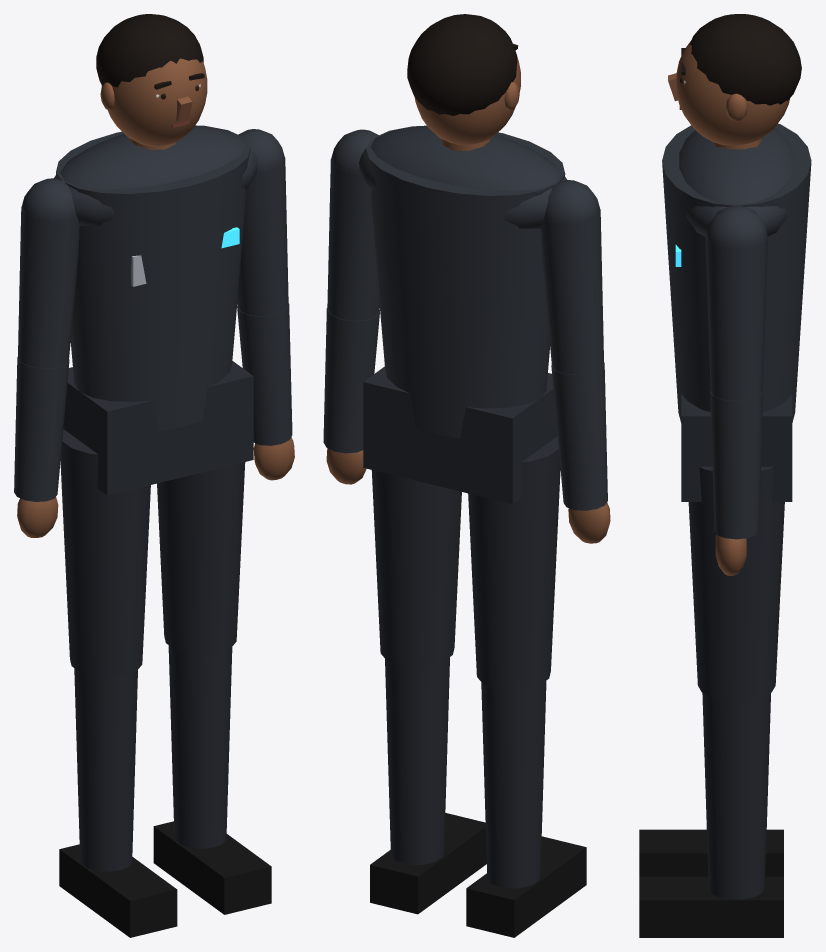
The model's file is char_crowd_1.glb.
3 renders of one model, left to right at view 1: azimuth 30°, elevation 25°; view 2: azimuth 150°, elevation 25°; view 3: azimuth 270°, elevation 25°, orthographic. The views are drawn at different scales.
Parts seen in each view (by area): view 1: Torso__Char_Graphite, Thigh__Char_Pants (×2), Shin__Char_Pants (×2), UpperArm__Char_Graphite (×2), Pelvis__Char_Pants, Shin__Char_Shoes (×2), Forearm__Char_Graphite (×2), Head_Mesh__Char_Skin_B, Head_Mesh__Char_Hair, Forearm__Char_Skin_B (×2); view 2: Torso__Char_Graphite, Thigh__Char_Pants (×2), Shin__Char_Pants (×2), UpperArm__Char_Graphite (×2), Pelvis__Char_Pants, Forearm__Char_Graphite (×2), Shin__Char_Shoes (×2), Head_Mesh__Char_Hair, Head_Mesh__Char_Skin_B, Forearm__Char_Skin_B (×2); view 3: Torso__Char_Graphite, Thigh__Char_Pants, Shin__Char_Pants, Shin__Char_Shoes (×2), UpperArm__Char_Graphite, Head_Mesh__Char_Hair, Forearm__Char_Graphite, Head_Mesh__Char_Skin_B, Pelvis__Char_Pants, Forearm__Char_Skin_B.
Part boxes in pixels (left/top/right/bottom): Torso__Char_Graphite: left=54, top=125, right=257, bottom=430; Thigh__Char_Pants (×2): left=60, top=429, right=245, bottom=677; Shin__Char_Pants (×2): left=74, top=645, right=232, bottom=871; UpperArm__Char_Graphite (×2): left=18, top=129, right=288, bottom=368; Pelvis__Char_Pants: left=63, top=361, right=253, bottom=495; Shin__Char_Shoes (×2): left=59, top=821, right=271, bottom=937; Forearm__Char_Graphite (×2): left=14, top=303, right=292, bottom=501; Head_Mesh__Char_Skin_B: left=100, top=58, right=207, bottom=149; Head_Mesh__Char_Hair: left=96, top=14, right=203, bottom=86; Forearm__Char_Skin_B (×2): left=17, top=437, right=294, bottom=537; Torso__Char_Graphite: left=359, top=125, right=566, bottom=438; Thigh__Char_Pants (×2): left=371, top=436, right=560, bottom=690; Shin__Char_Pants (×2): left=385, top=657, right=546, bottom=888; UpperArm__Char_Graphite (×2): left=327, top=129, right=603, bottom=374; Pelvis__Char_Pants: left=363, top=366, right=557, bottom=503; Forearm__Char_Graphite (×2): left=323, top=308, right=607, bottom=510; Shin__Char_Shoes (×2): left=370, top=813, right=586, bottom=937; Head_Mesh__Char_Hair: left=407, top=14, right=517, bottom=115; Head_Mesh__Char_Skin_B: left=414, top=57, right=520, bottom=151; Forearm__Char_Skin_B (×2): left=326, top=448, right=610, bottom=543; Torso__Char_Graphite: left=662, top=123, right=811, bottom=422; Thigh__Char_Pants: left=688, top=466, right=784, bottom=700; Shin__Char_Pants: left=702, top=693, right=770, bottom=899; Shin__Char_Shoes (×2): left=639, top=829, right=783, bottom=937; UpperArm__Char_Graphite: left=705, top=205, right=767, bottom=401; Head_Mesh__Char_Hair: left=689, top=14, right=801, bottom=105; Forearm__Char_Graphite: left=710, top=391, right=763, bottom=539; Head_Mesh__Char_Skin_B: left=668, top=40, right=789, bottom=149; Pelvis__Char_Pants: left=681, top=394, right=792, bottom=501; Forearm__Char_Skin_B: left=715, top=534, right=746, bottom=575.
Bounding box in the file's own units: 0.5852 × 1.75 × 0.3094.
